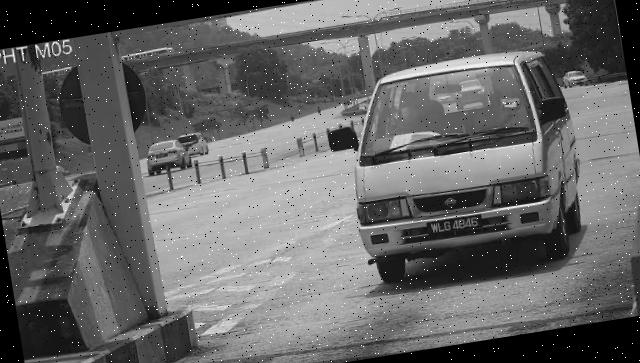License_Plate: (426, 213, 485, 242)
van: (336, 43, 595, 290)
